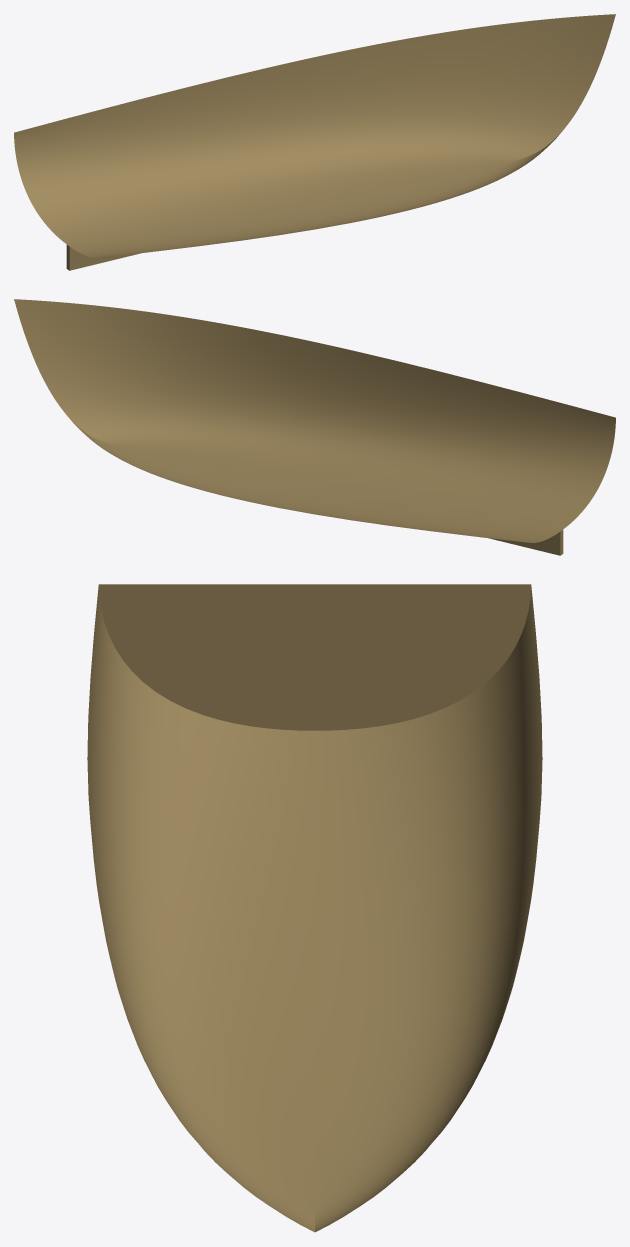
The model's file is ship-CbQAxXrh.glb.
3 renders of one model, top to bottom at view 1: azimuth 30°, elevation 25°; view 2: azimuth 150°, elevation 25°; view 3: azimuth 270°, elevation 25°, orthographic. The views are drawn at different scales.
Size of the model in its own units: 15 by 3.19 by 5.39.
